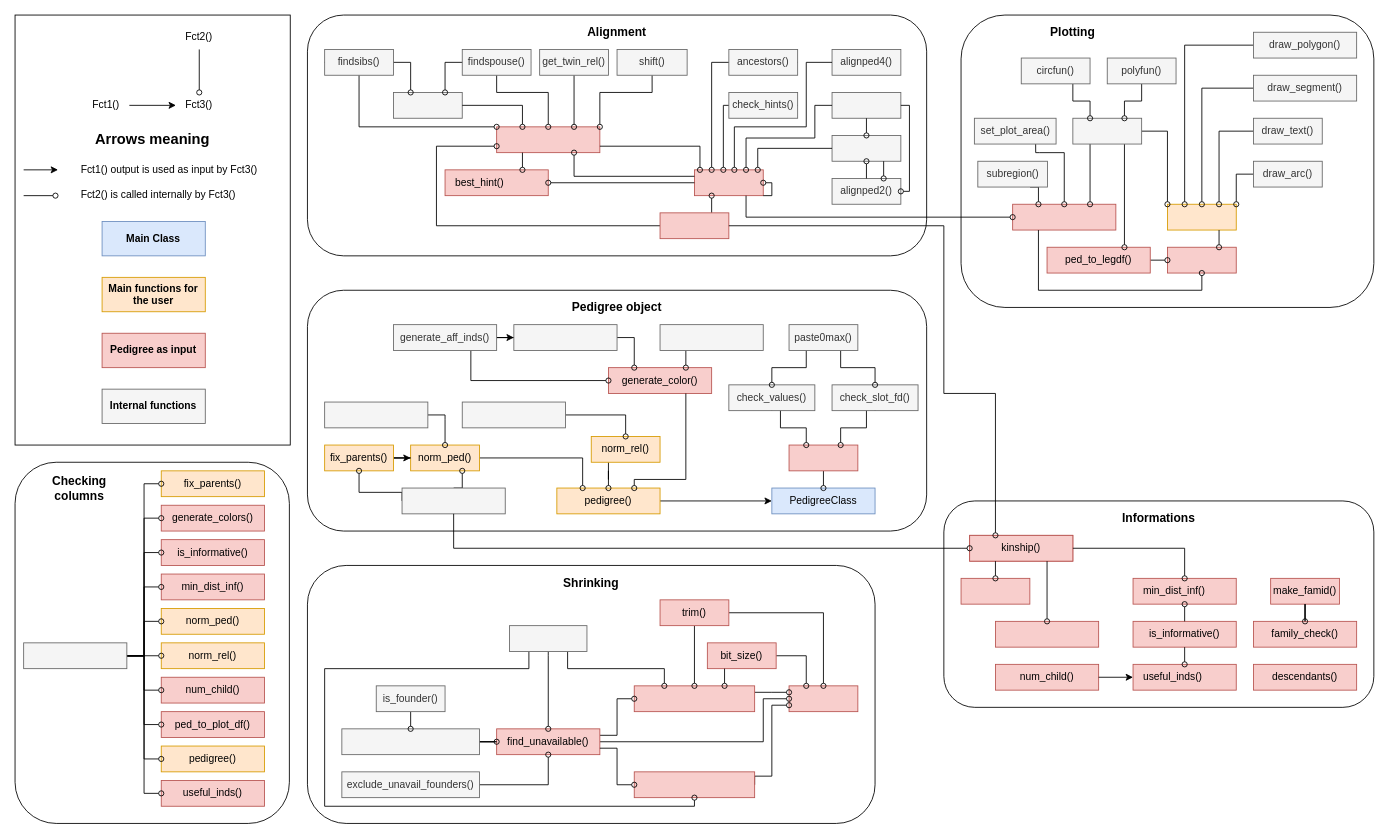
The diagram is 1389 pixels wide and 839 high, and some of its shapes have lost their labels. The shapes that lost their labels are listed below. From the top down, each one's centre as x and y in pixels, then its label:
At (427,105): "duporder()".
At (866,105): "alignped3()".
At (548,139): "auto_hint()".
At (866,148): "alignped1()".
At (1107,130): "polygons()".
At (728,182): "align()".
At (694,225): "kindepth()".
At (1064,216): "ped_to_plotdf()".
At (1201,216): "plot_fromdf()".
At (1201,259): "plot()".
At (565,337): "generate_fill()".
At (711,337): "generate_border()".
At (376,414): "check_num_na()".
At (513,414): "rel_code_to_factor()".
At (823,457): "is_valid()".
At (453,500): "sex_to_factor()".
At (995,590): "unrelated()".
At (548,638): "is_parent()".
At (1047,633): "is_disconnected()".
At (75,655): "check_columns()".
At (694,698): "find_avail_affected()".
At (823,698): "shrink()".
At (410,741): "exclude_stray_marryin()".
At (694,784): "find_avail_noninform()".
